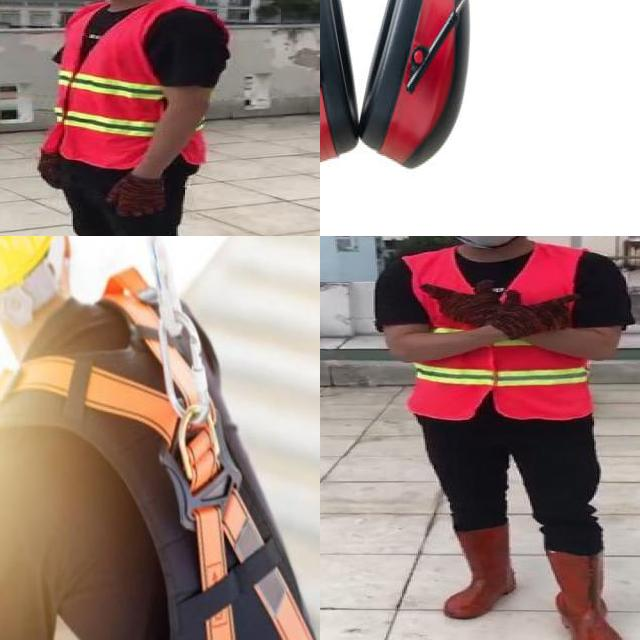Ear-protection: (320, 0, 512, 195)
Harness: (12, 268, 315, 640)
boots: (545, 550, 628, 640), (442, 526, 519, 622)
hand_glove: (105, 175, 164, 217)
person: (362, 236, 640, 640), (18, 0, 240, 236)
vest: (400, 245, 594, 420), (48, 1, 206, 171)
